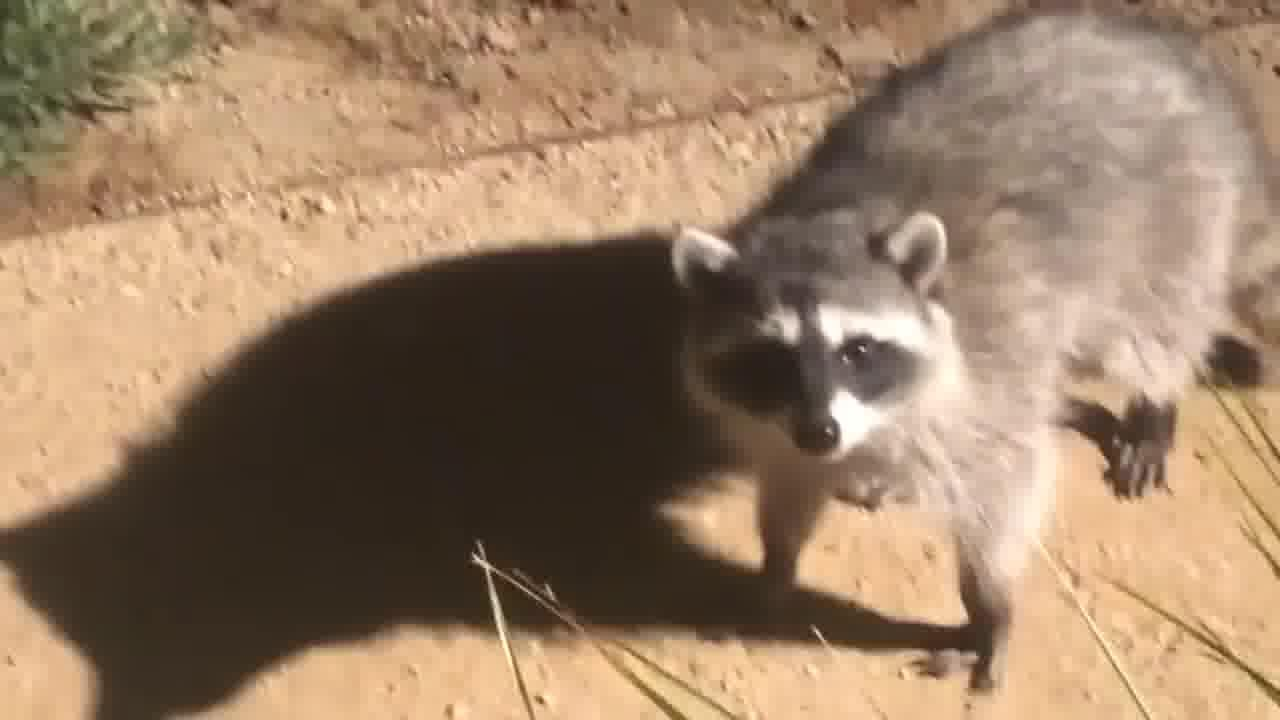raccoon: (665, 8, 1280, 720)
